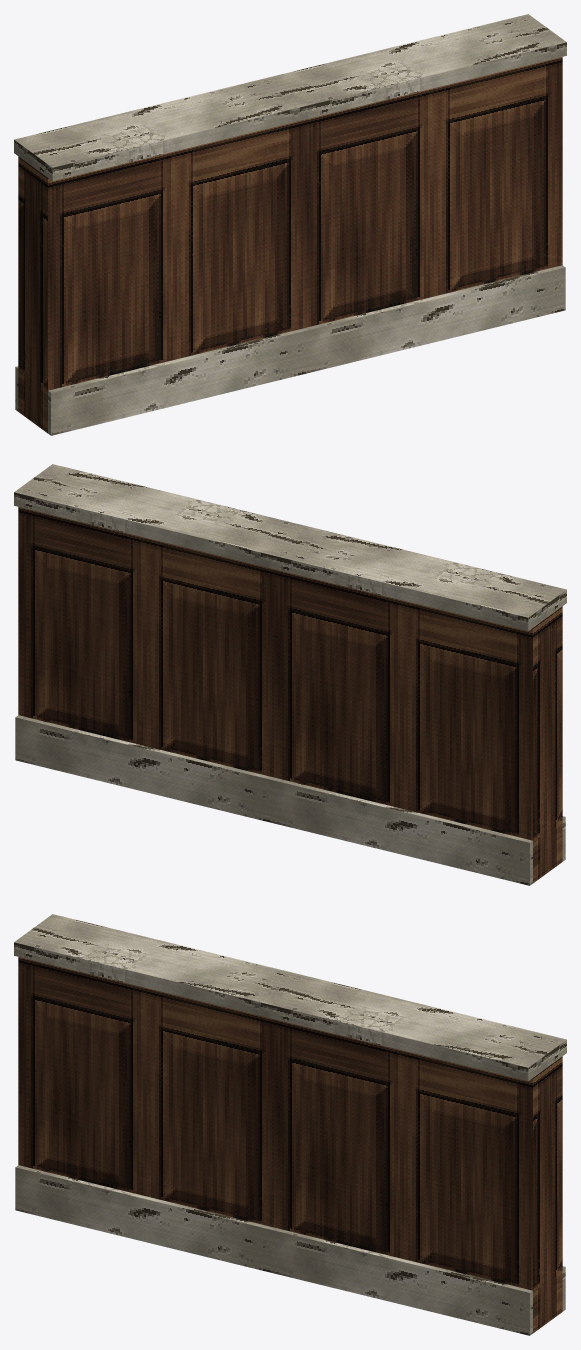
Rendered from house_wall_low.glb.
3 views of the same model, one above another, from view 1: azimuth 30°, elevation 25°; view 2: azimuth 150°, elevation 25°; view 3: azimuth 330°, elevation 25° (orthographic).
Parts seen in each view (by area): view 1: house_wall_low; view 2: house_wall_low; view 3: house_wall_low.
Boxes of the visible parts, x1,y1,x2,y2 form: house_wall_low: (14,14,566,435); house_wall_low: (14,464,566,885); house_wall_low: (14,914,566,1335).
Size of the model in its own units: 2 by 1 by 0.26.
2 materials, 2 textured.
